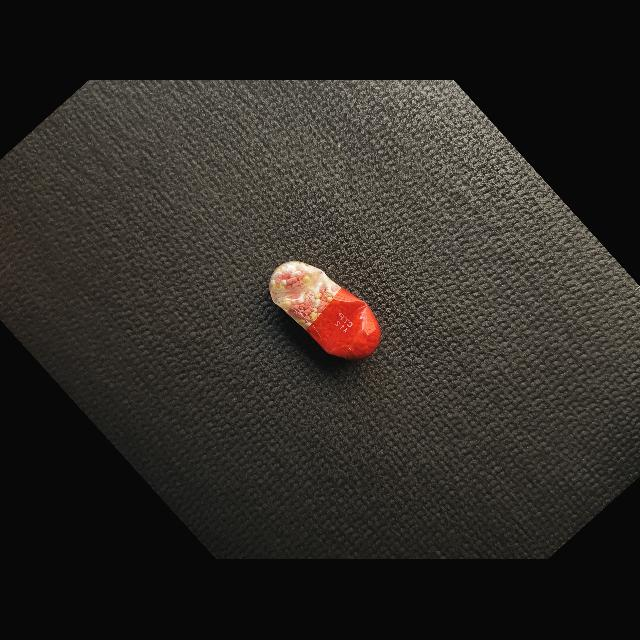Defective Capsule: (269, 261, 381, 360)
